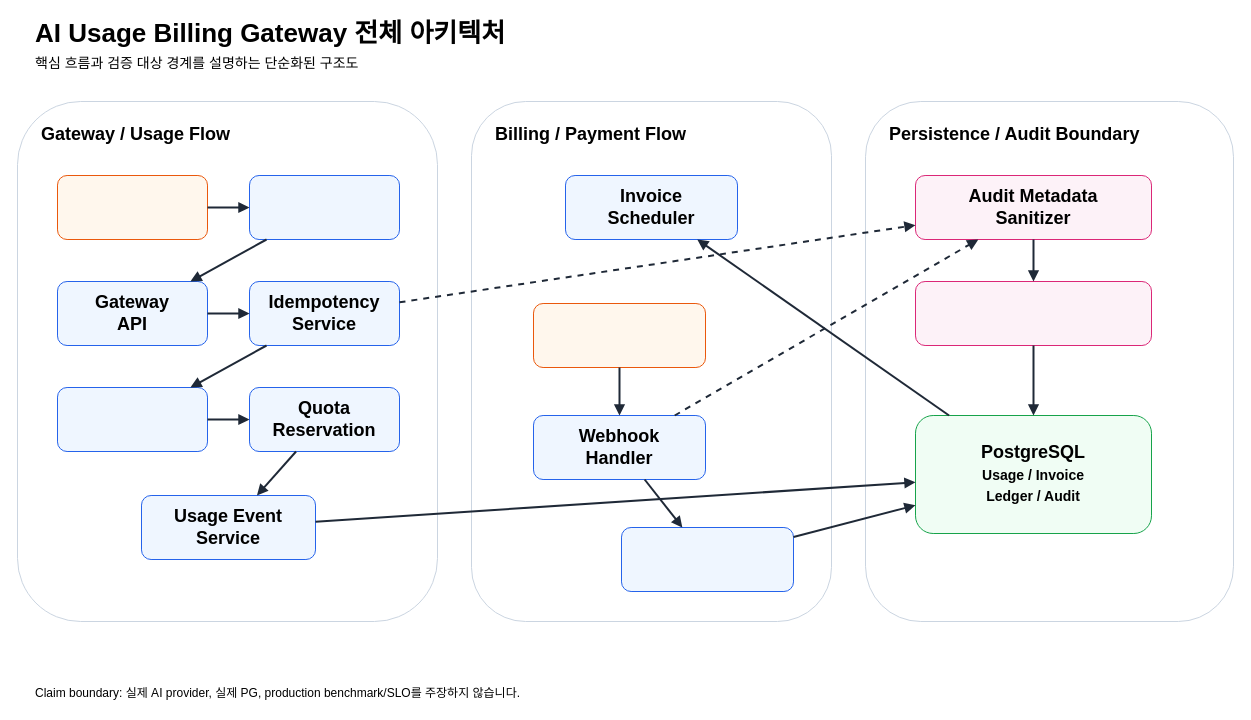
Some shapes in this 1251 by 720 pixel diagram are drawn without their labels. Here are the shapes that lost their labels. From the top down, the centre of each, then its label:
At pixel 132 207: "Client".
At pixel 324 207: "API Key Auth".
At pixel 1033 313: "Audit Log".
At pixel 619 335: "Payment Provider".
At pixel 132 419: "Redis Rate Limit".
At pixel 707 559: "Ledger Service".
